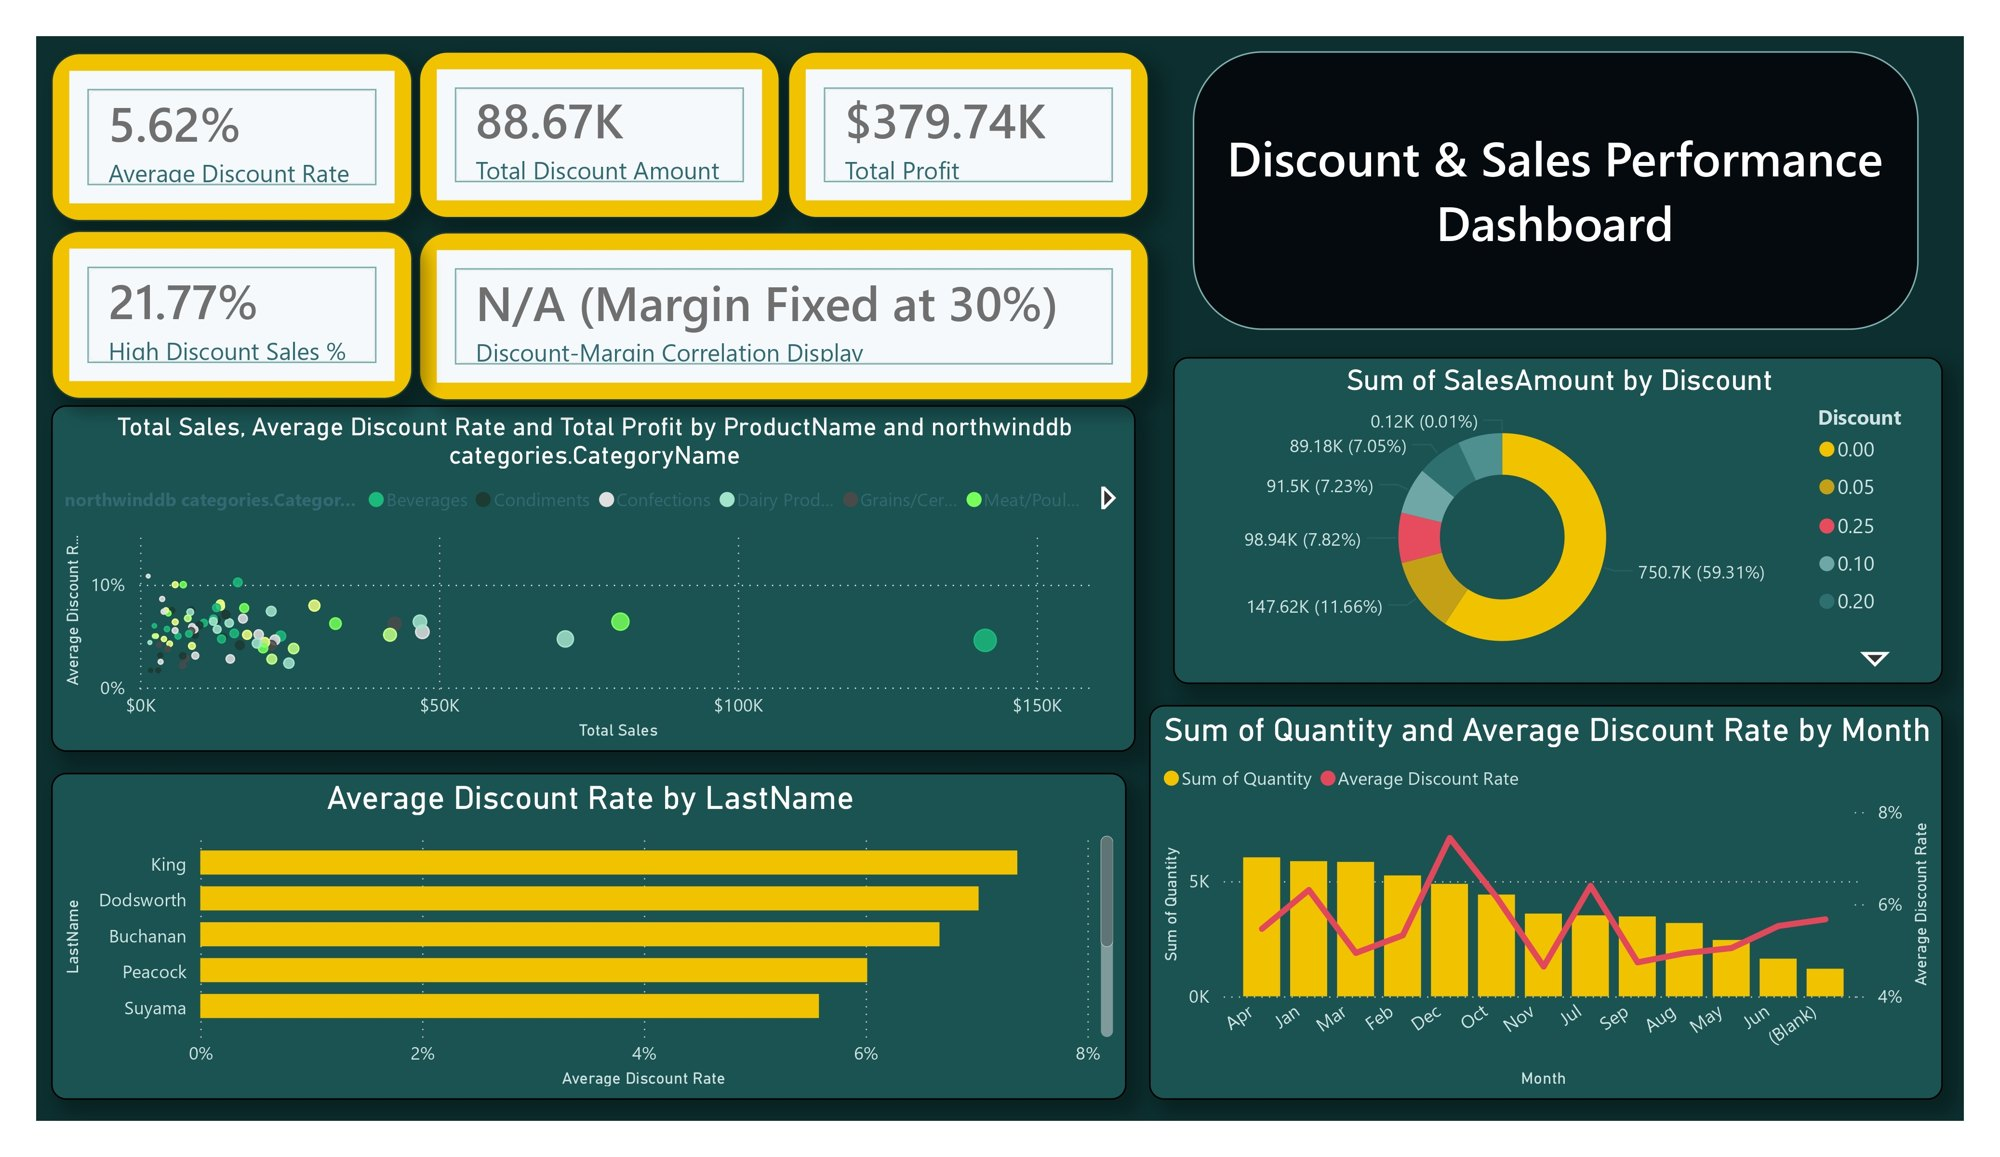

This screenshot's page, from the dashboard's own definition file:
{"tool":"powerbi","page":{"name":"Pricing & Discount Strategy","canvas":[1280,720],"ordinal":6},"visuals":[{"type":"cardVisual","fields":{"Data":["_Measures.Average Discount Rate"]},"box":[10,11.2,240,111.2],"z":0},{"type":"scatterChart","fields":{"X":["_Measures.Total Sales"],"Y":["_Measures.Average Discount Rate"],"Category":["DimProduct.ProductName"],"Size":["_Measures.Total Profit"],"Series":["DimProduct.northwinddb categories.CategoryName"]},"box":[10,245,720,230],"z":1000},{"type":"donutChart","fields":{"Y":["Sum(FactSales.SalesAmount)"],"Category":["FactSales.Discount"]},"box":[755,212.5,511.2,217.5],"z":2000},{"type":"clusteredBarChart","fields":{"Category":["DimEmployee.LastName"],"Y":["_Measures.Average Discount Rate"]},"box":[10,488.8,713.8,217.5],"z":3000},{"type":"lineStackedColumnComboChart","fields":{"Category":["DimDate.Month"],"Y":["Sum(FactSales.Quantity)"],"Y2":["_Measures.Average Discount Rate"]},"box":[738.8,443.8,527.5,262.5],"z":4000},{"type":"shape","box":[767.5,10,482.5,185],"z":5000},{"type":"textbox","box":[777.5,31.2,461.2,145],"z":6000},{"type":"cardVisual","fields":{"Data":["_Measures.Total Discount Amount"]},"box":[253.8,10,240,111.2],"z":7000},{"type":"cardVisual","fields":{"Data":["_Measures.Total Profit"]},"box":[498.8,10,240,111.2],"z":8000},{"type":"cardVisual","fields":{"Data":["_Measures.Discount-Margin Correlation Display"]},"box":[253.8,130,485,112],"z":9000},{"type":"cardVisual","fields":{"Data":["_Measures.High Discount Sales %"]},"box":[10,128.8,240,112],"z":10000}]}

Visuals, with their boxes in screenshot pixels (x1, y1, x2, y2), scaled from the page's 1280x720 canvas onto the 2000x1157 screenshot:
cardVisual - _Measures.Average Discount Rate: 16/18/391/197
scatterChart - _Measures.Total Sales x _Measures.Average Discount Rate: 16/394/1141/763
donutChart - Sum(FactSales.SalesAmount) x FactSales.Discount: 1180/341/1978/691
clusteredBarChart - DimEmployee.LastName x _Measures.Average Discount Rate: 16/785/1131/1135
lineStackedColumnComboChart - DimDate.Month x Sum(FactSales.Quantity): 1154/713/1979/1135
shape: 1199/16/1953/313
textbox: 1215/50/1935/283
cardVisual - _Measures.Total Discount Amount: 397/16/772/195
cardVisual - _Measures.Total Profit: 779/16/1154/195
cardVisual - _Measures.Discount-Margin Correlation Display: 397/209/1154/389
cardVisual - _Measures.High Discount Sales %: 16/207/391/387
